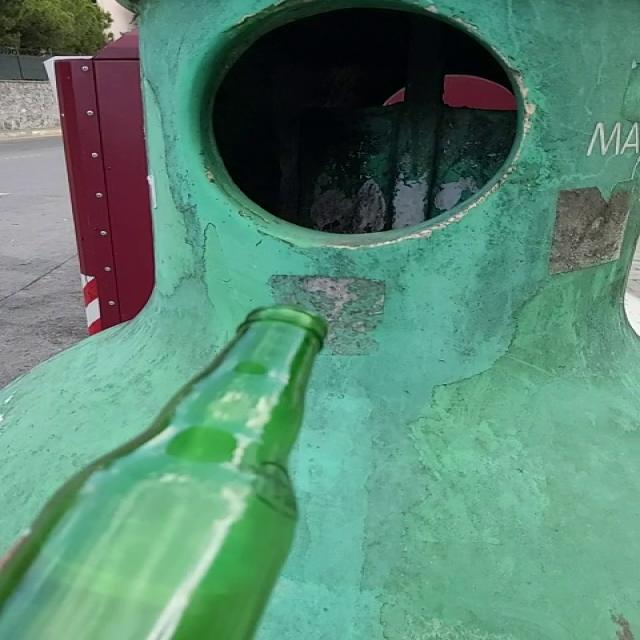glass: (1, 308, 327, 640)
